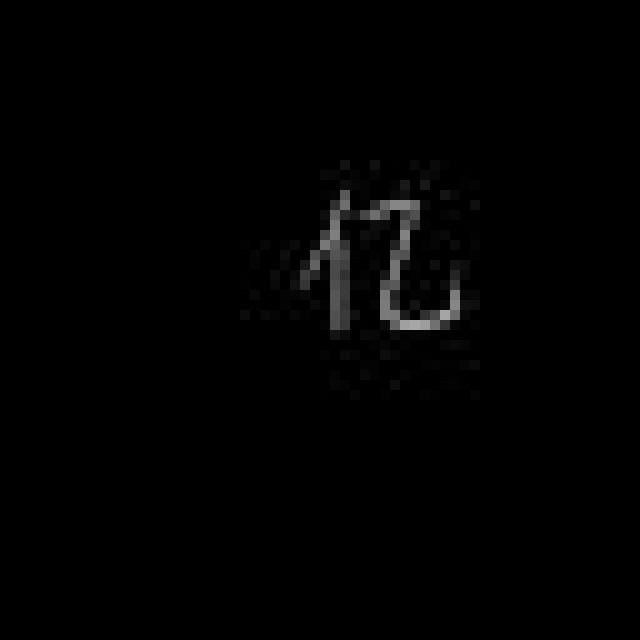100000 -a hundred thousand-: (288, 176, 471, 348)
